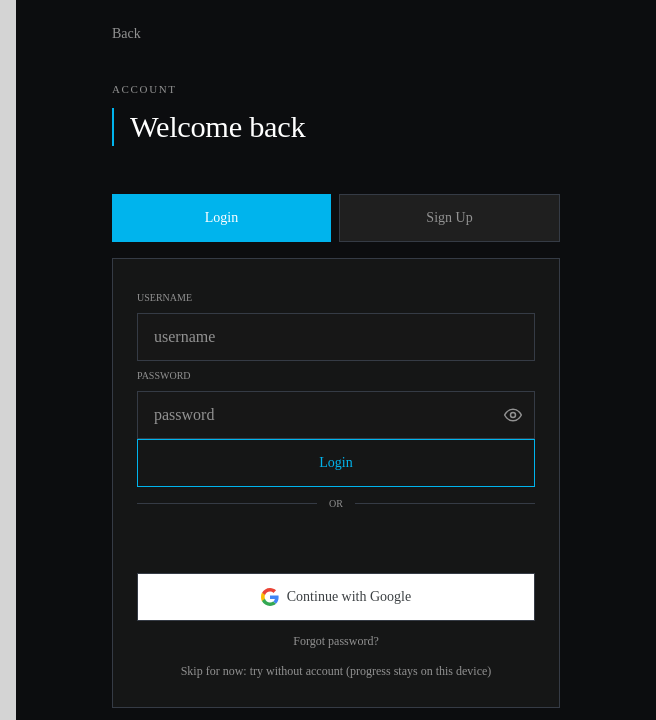
Scenario: LoginPage › clears field errors live after a failed attempt
Click the button "Sign Up" at (450, 218), box left=339, top=194, right=560, bottom=242
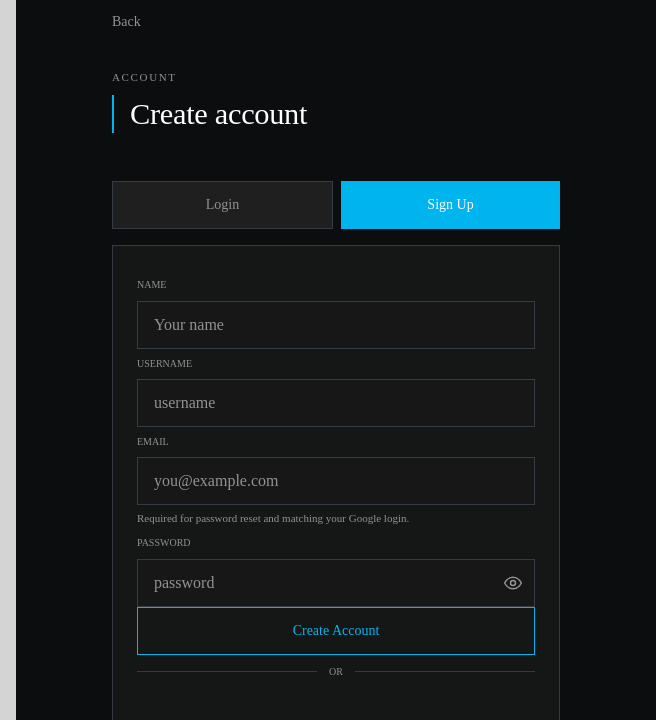
Type "Ada" into the field labelled "Name" at (336, 324), box left=137, top=300, right=535, bottom=348
Type "ada" into the field labelled "Username" at (336, 403), box left=137, top=379, right=535, bottom=427
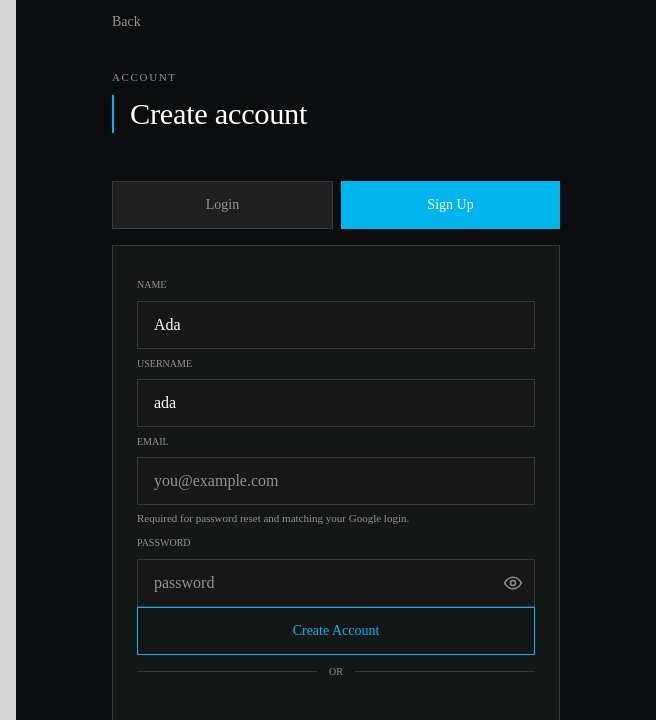
Type "ada@example.com" into the field labelled "Email" at (336, 481), box left=137, top=457, right=535, bottom=505
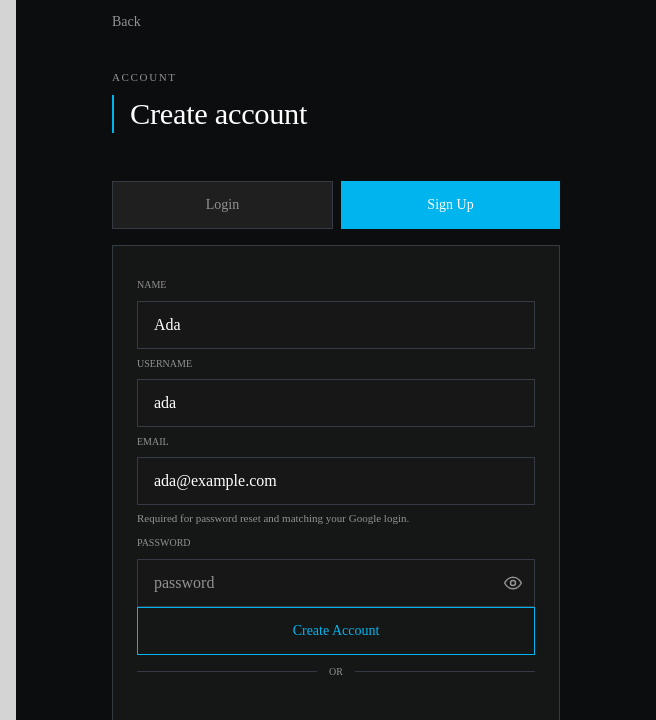
Type "abc" into the password field labelled "Password" at (336, 582), box left=137, top=558, right=535, bottom=606
(page scrolled)
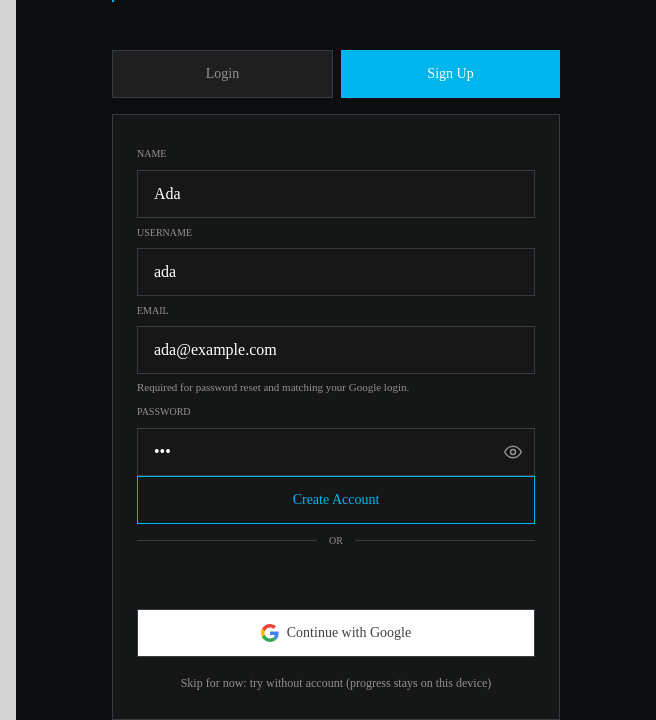
Submit the form named "Create Account", box left=137, top=139, right=535, bottom=695
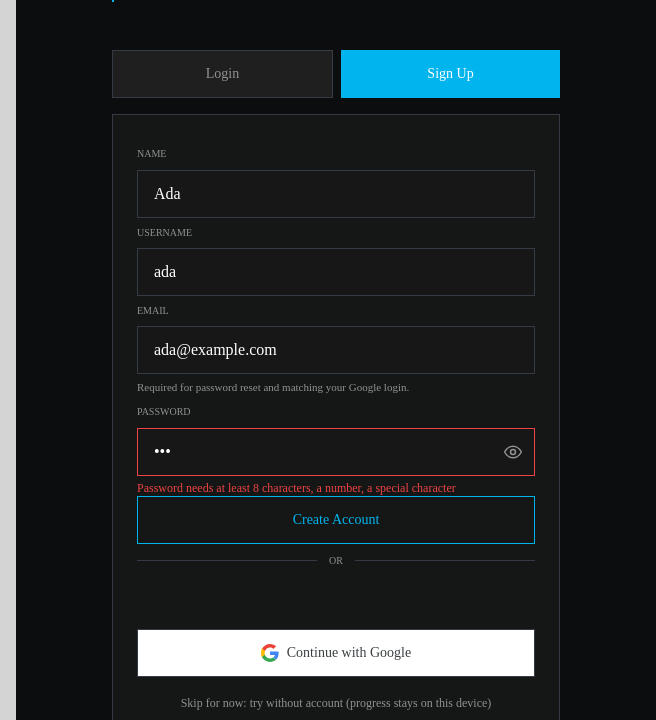
Now the text "Password needs at least 8 characters, a number, a special character" is shown, box left=137, top=480, right=456, bottom=494
Type "Engine!n1" into the password field labelled "Password" at (336, 452), box left=137, top=428, right=535, bottom=476
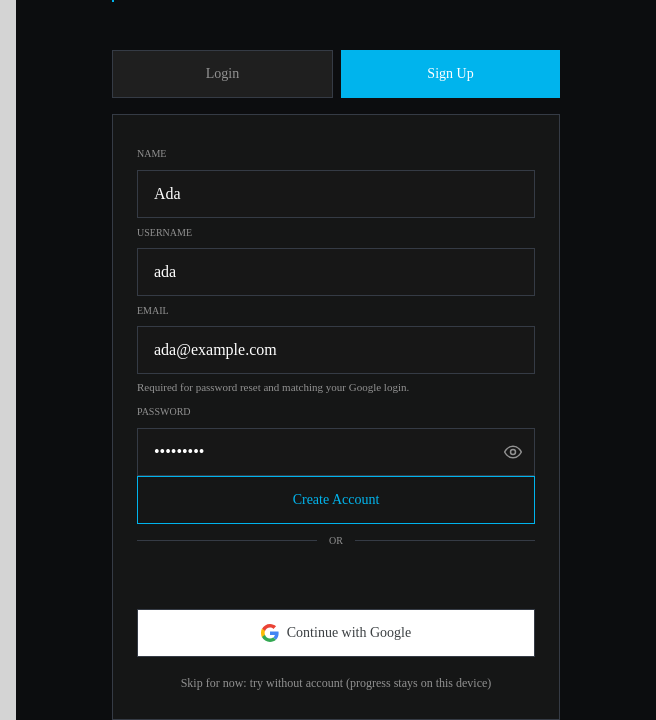
Now the text "Password needs" is gone
